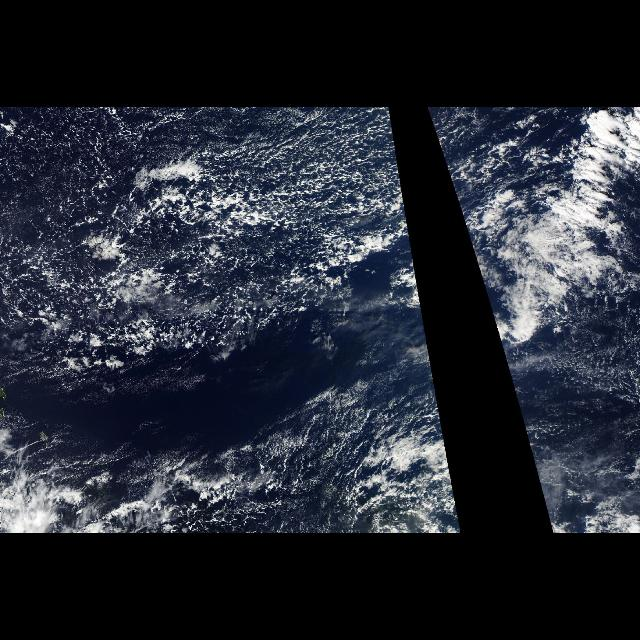Gravel: (5, 109, 451, 533), (428, 109, 438, 143)
Sugar: (0, 112, 106, 234)
